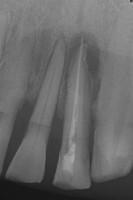Furcation Involvement: (64, 31, 101, 103)
